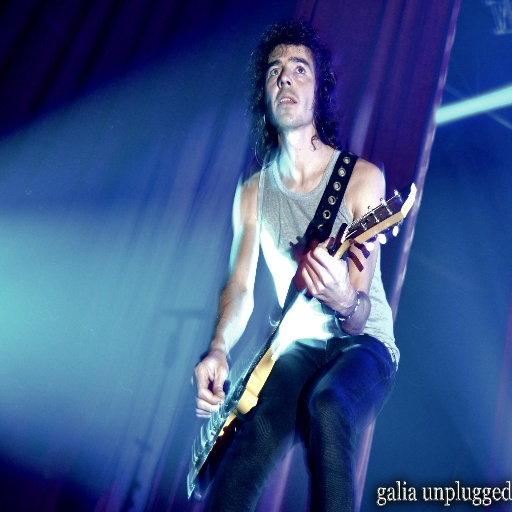hand: (297, 233, 354, 313), (192, 351, 230, 420)
